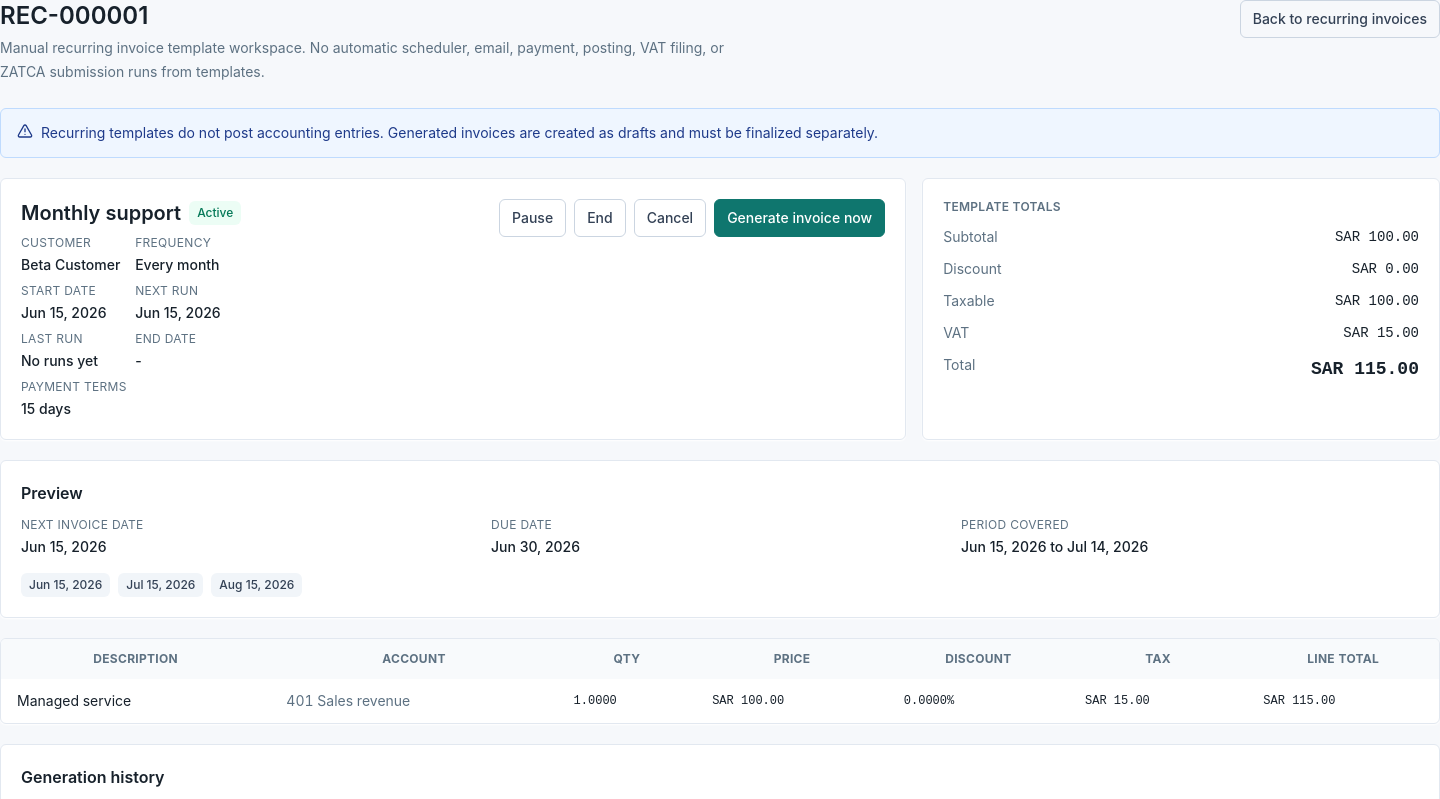
Test: RecurringInvoiceDetailPage › shows safe non-posting wording and manually generates a draft invoice
Expected: the text "Recurring templates do not post accounting entries" is shown, [41, 124, 878, 141]
Expected: the text "No automatic scheduler, email, payment, posting, VAT filing, or ZATCA submission" is shown, [0, 39, 724, 80]
Click the button "Generate invoice now" at (800, 218), box [714, 199, 885, 237]
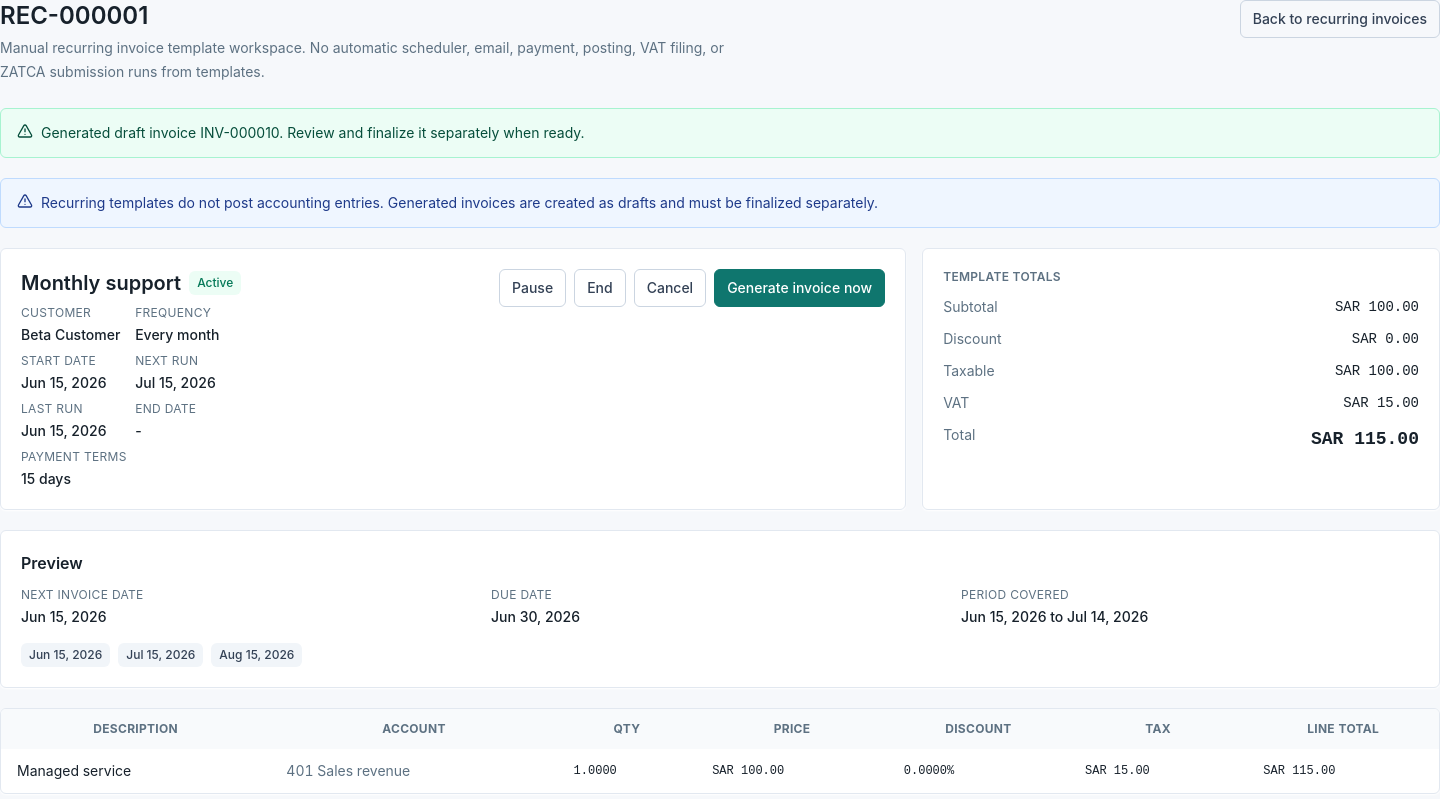
Expected: the text "Jun 15, 2026" below "Start date" is shown, [21, 374, 106, 391]
Expected: the text "Generated draft invoice INV-000010" is shown, [41, 124, 585, 141]
